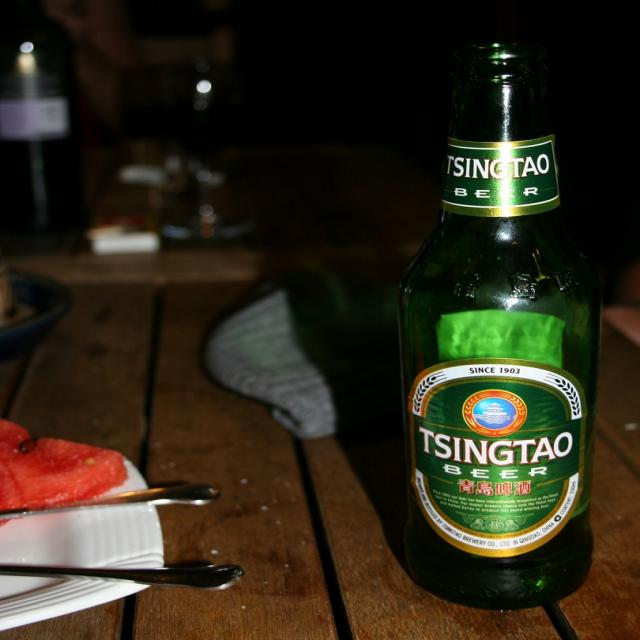tsingtao: (408, 357, 588, 559)
